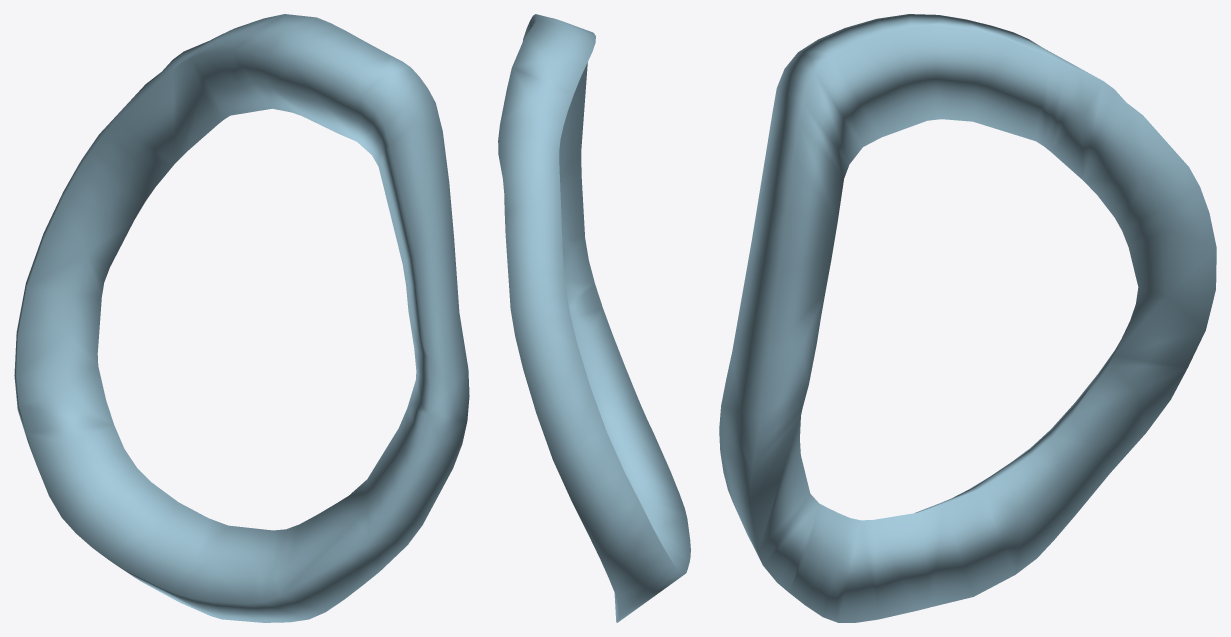
Rendered from articulacoes-glenoid-labrum-r.glb.
The picture shows the model from 3 angles, left to right: view 1: azimuth 30°, elevation 25°; view 2: azimuth 150°, elevation 25°; view 3: azimuth 270°, elevation 25°; orthographic projection. The views are drawn at different scales.
Parts seen in each view (by area): view 1: Glenoid labrum.r; view 2: Glenoid labrum.r; view 3: Glenoid labrum.r.
Boxes of the visible parts, x1,y1,x2,y2 form: Glenoid labrum.r: [14, 14, 469, 622]; Glenoid labrum.r: [498, 14, 690, 622]; Glenoid labrum.r: [719, 14, 1216, 622].
Bounding box in the file's own units: 0.019 × 0.0358 × 0.0252.
